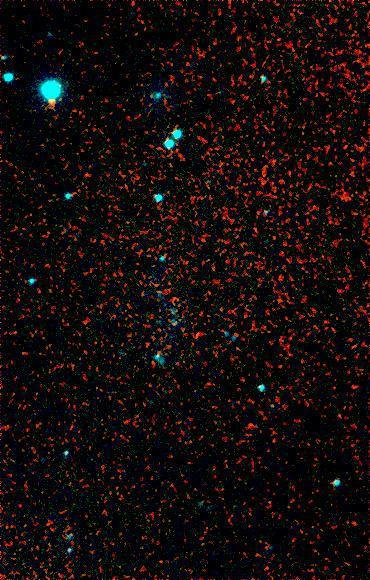star: (37, 84, 67, 114)
